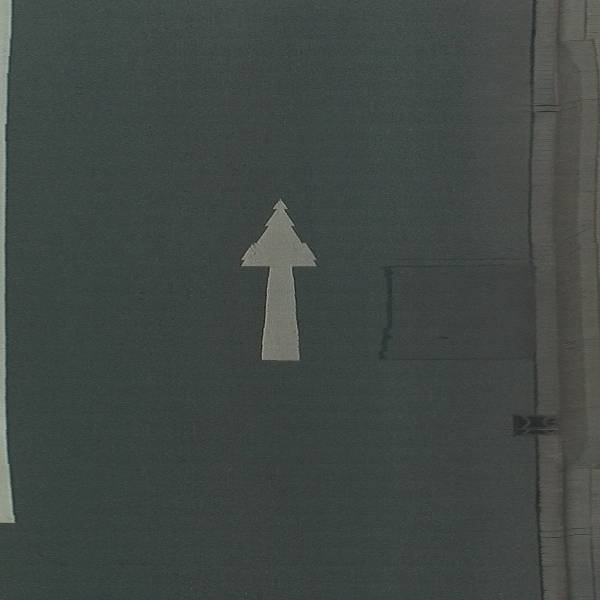road_damage: (368, 255, 550, 371)
